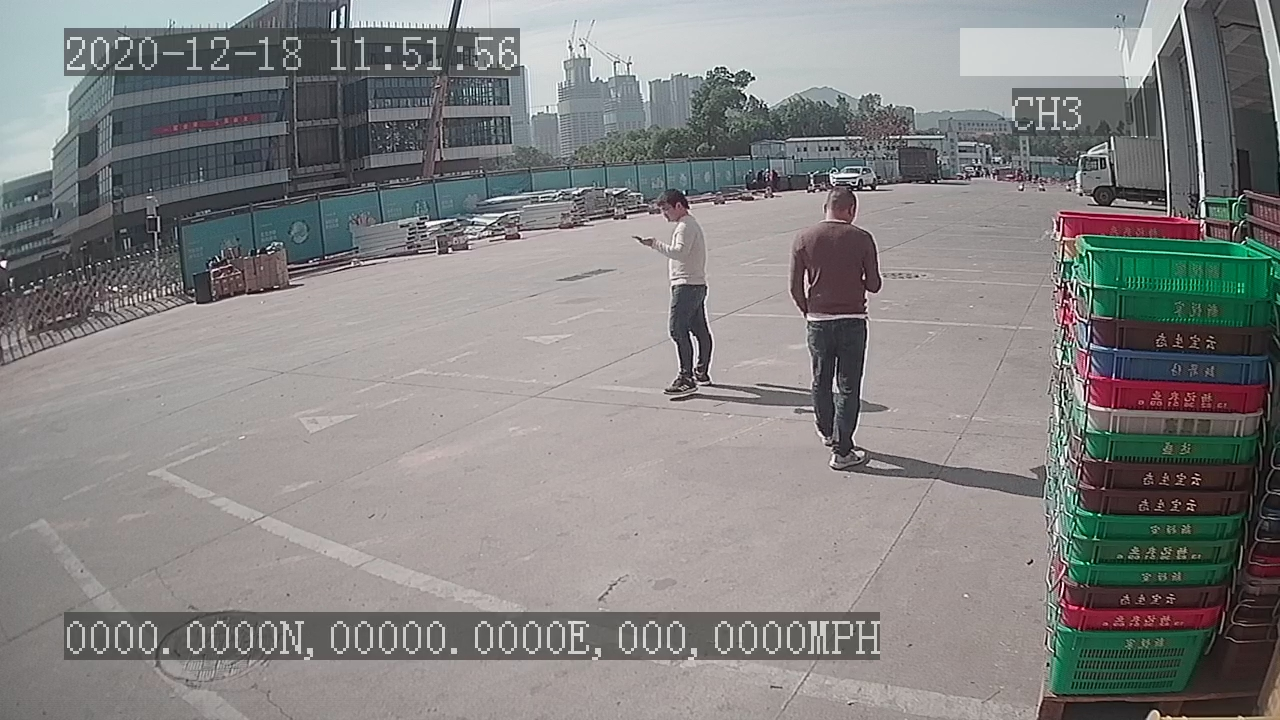person: (781, 179, 892, 481), (631, 176, 724, 410)
